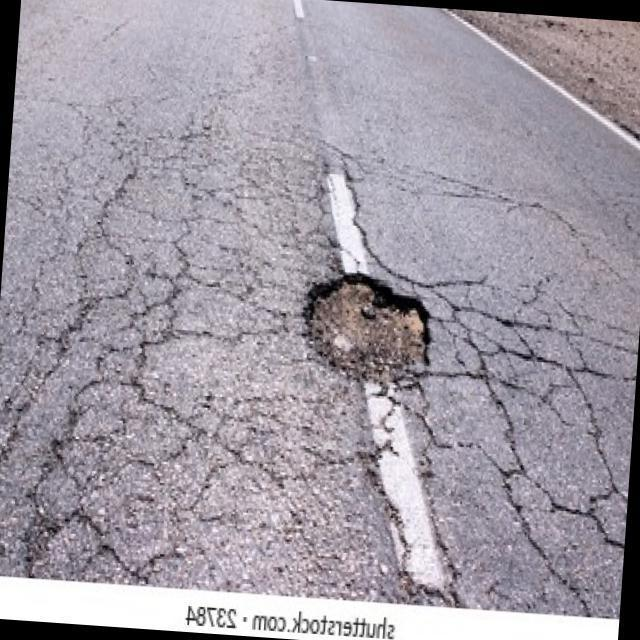pothole: (296, 267, 438, 390)
